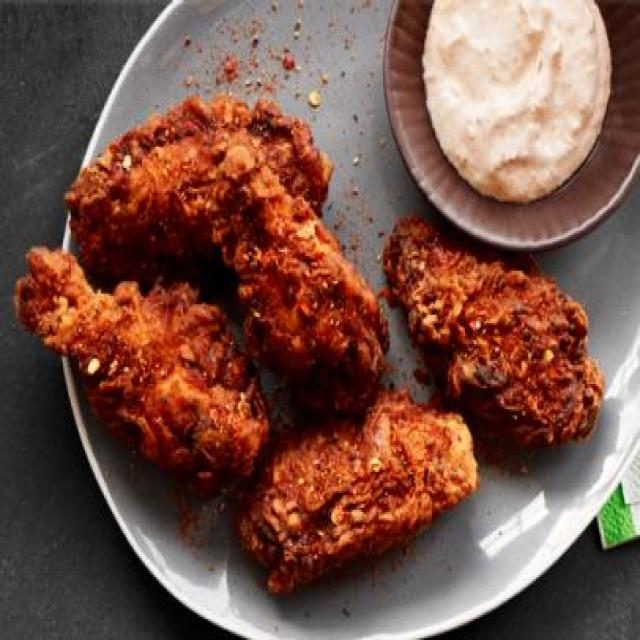Frango: (6, 88, 610, 594)
